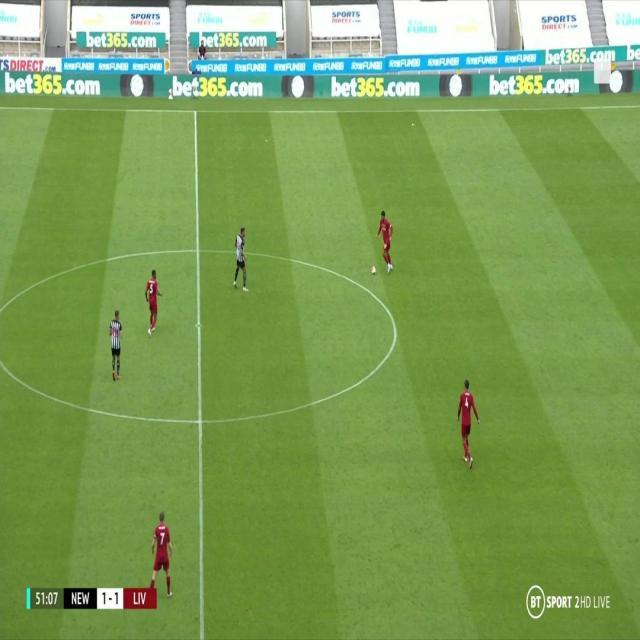ball: (371, 264, 377, 276)
player: (147, 509, 175, 602), (455, 377, 480, 469), (373, 209, 396, 277), (106, 307, 126, 382), (230, 222, 251, 293), (143, 267, 163, 337)
